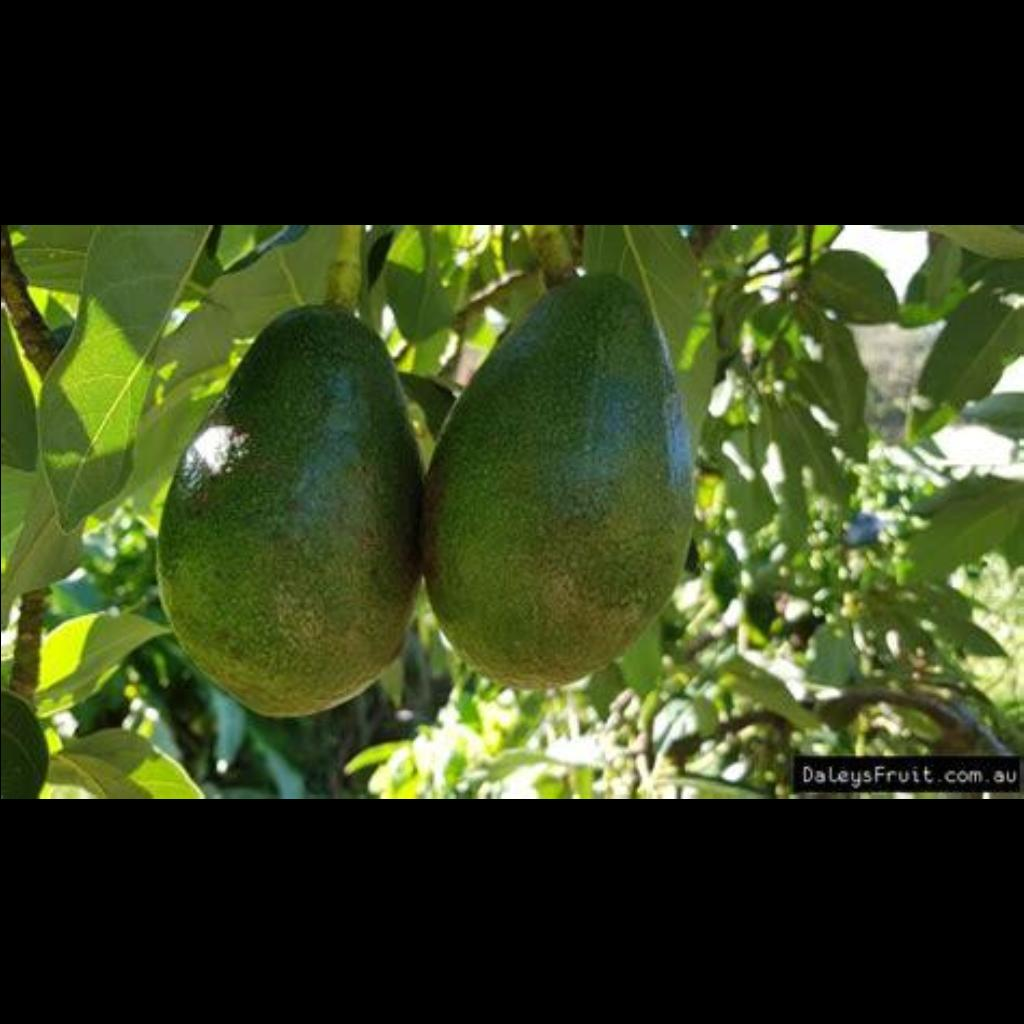Healthy: (426, 270, 710, 710), (146, 298, 416, 712)
